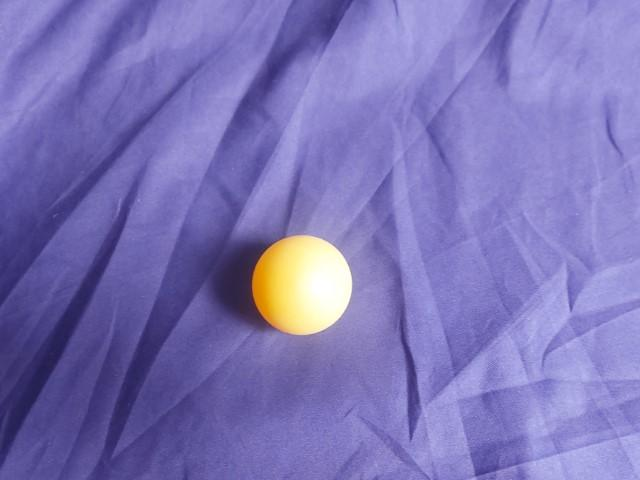oball: (279, 140, 397, 257)
